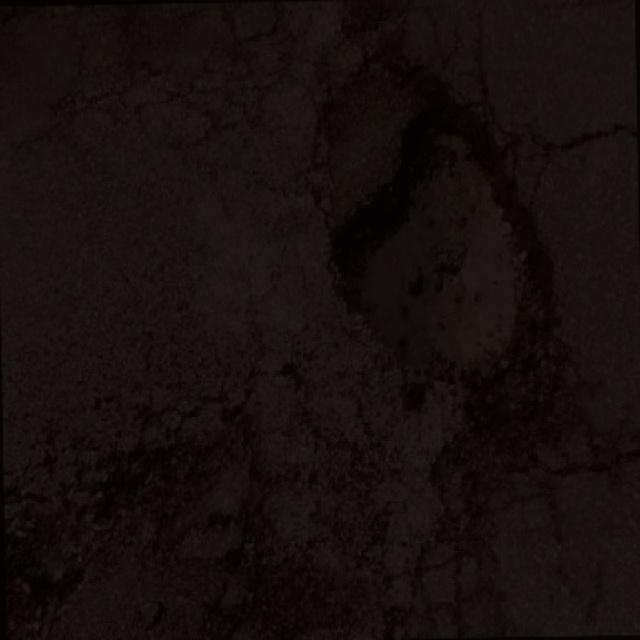Pothole: (315, 69, 566, 435)
